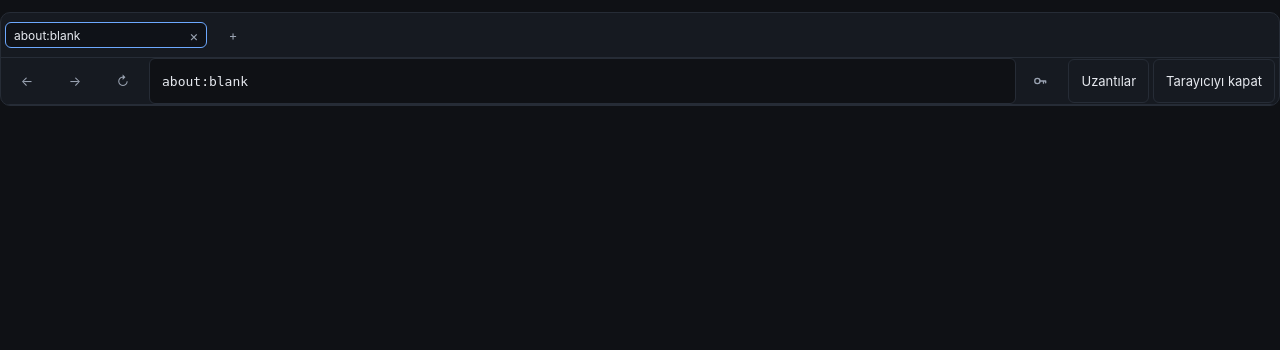
Test: BrowserPanel: Uzantılar › a refused change shows the engine's reason and the toggle stays as it was
The image size is (1280, 350).
Click the button "Uzantılar" at (1109, 81), box top-left (1068, 59), bottom-right (1149, 103)
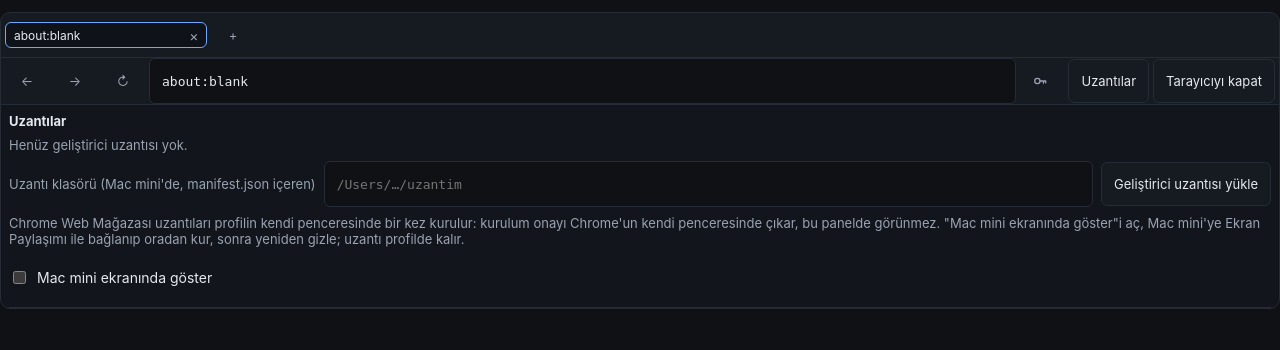
Click the checkbox labelled "Mac mini ekranında göster" at (20, 277), box top-left (13, 270), bottom-right (26, 284)
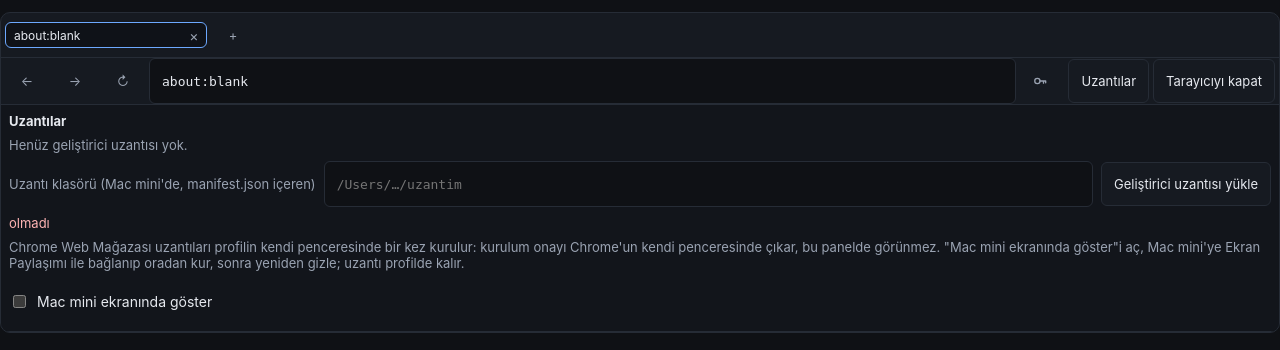
Expected: the checkbox labelled "Mac mini ekranında göster" is not checked, top-left (13, 294), bottom-right (26, 308)
Expected: the message reads "olmadı", top-left (9, 215), bottom-right (50, 231)
